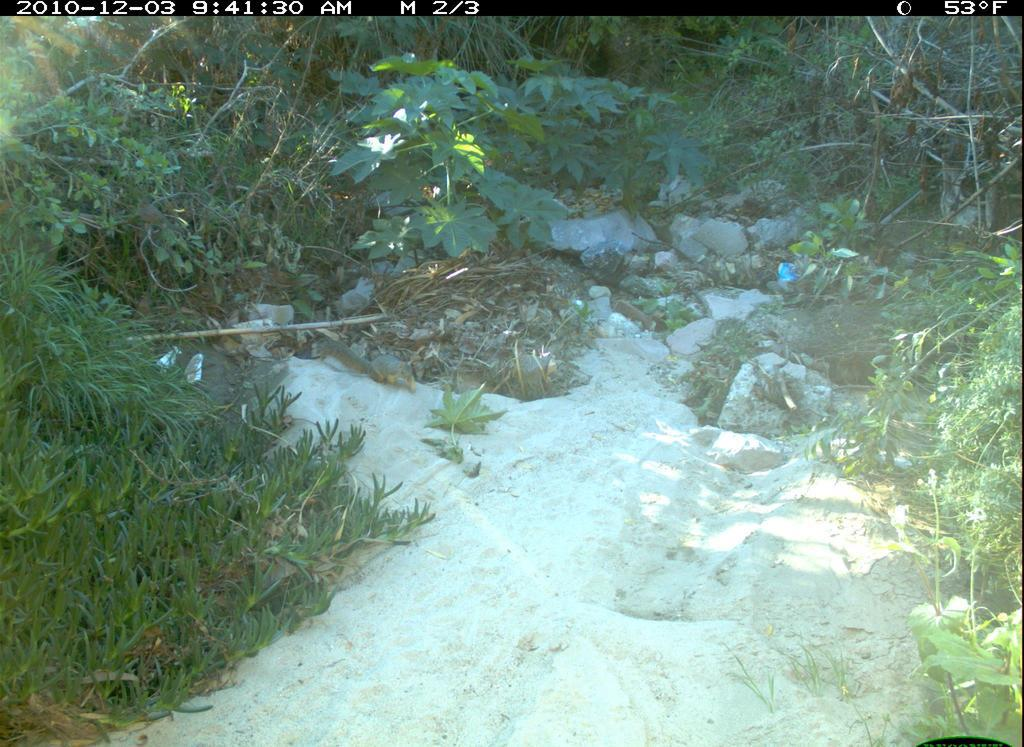squirrel: (304, 324, 432, 397)
